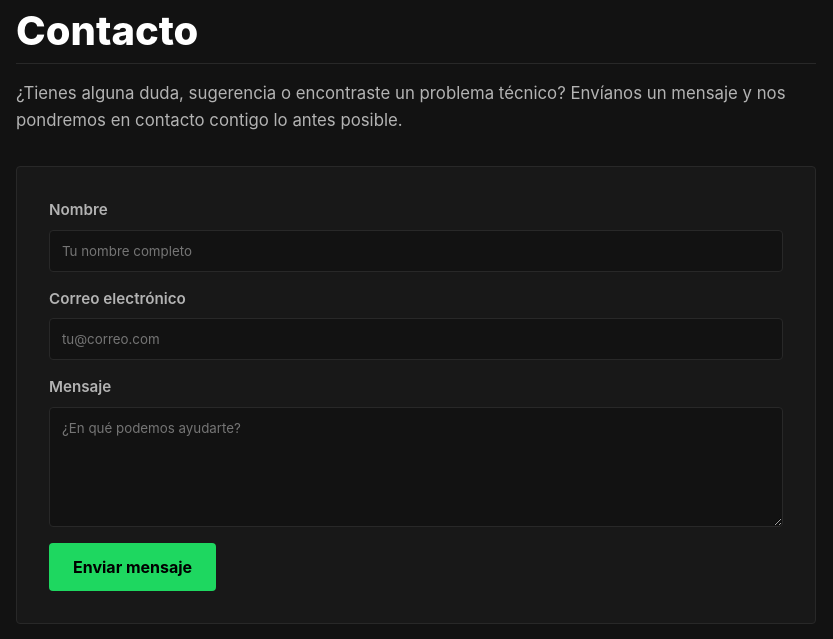
Test: ContactPage › con datos válidos envía y recién ahí muestra el éxito
Type "Ana Pérez" into the field labelled "Nombre" at coordinates (416, 250), box left=49, top=230, right=783, bottom=272
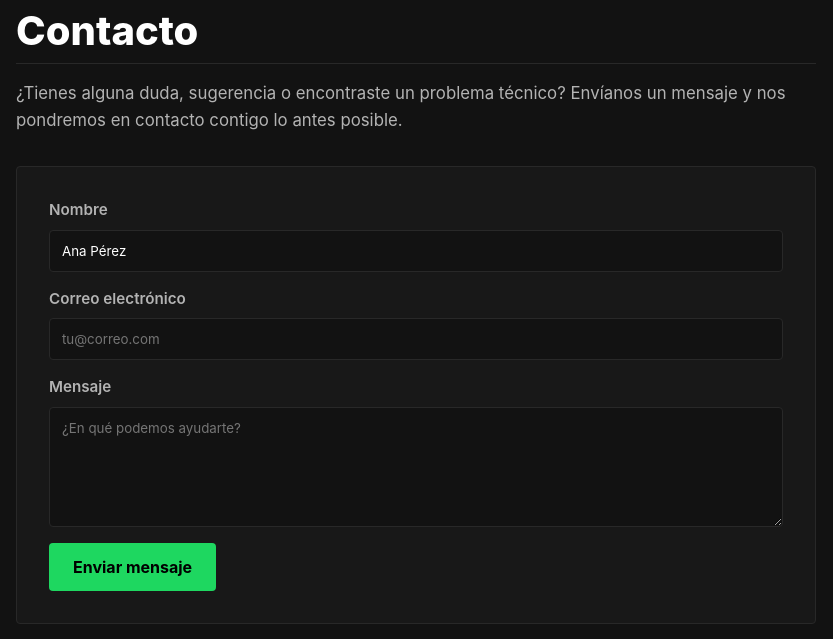
Type "ana@correo.com" into the field labelled "Correo electrónico" at coordinates (416, 339), box left=49, top=318, right=783, bottom=360
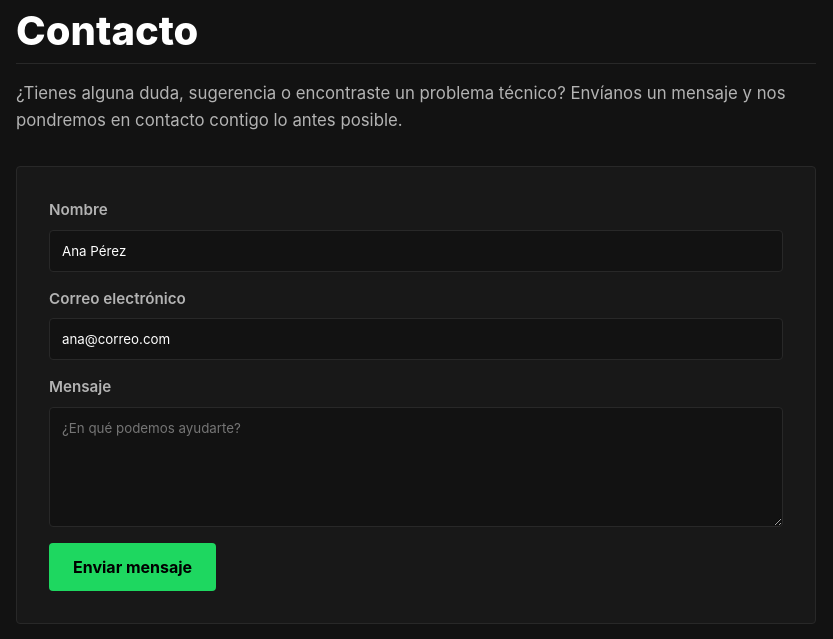
Type "Encontré un error en la ficha de un álbum." into the text box labelled "Mensaje" at coordinates (416, 467), box left=49, top=407, right=783, bottom=527
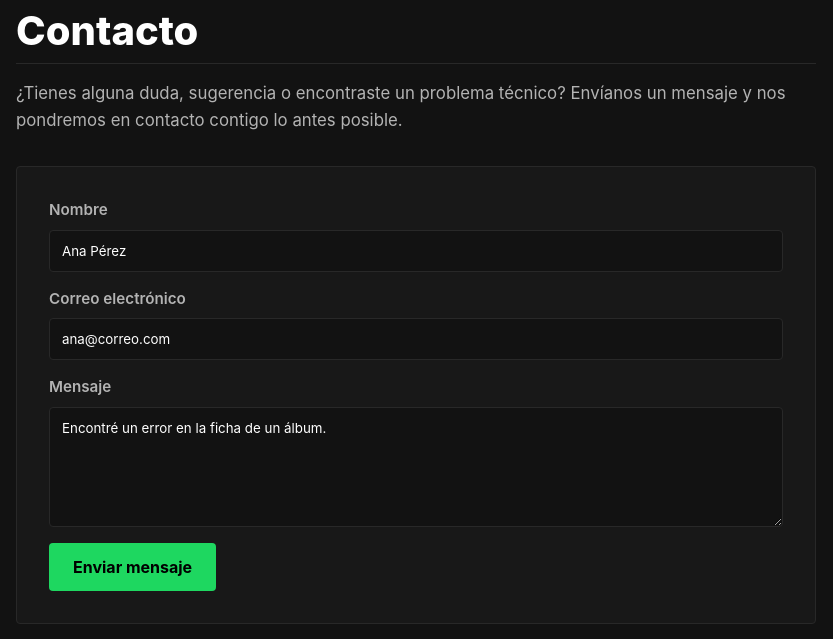
Click the button "Enviar mensaje" at coordinates (133, 567), box left=49, top=543, right=216, bottom=591
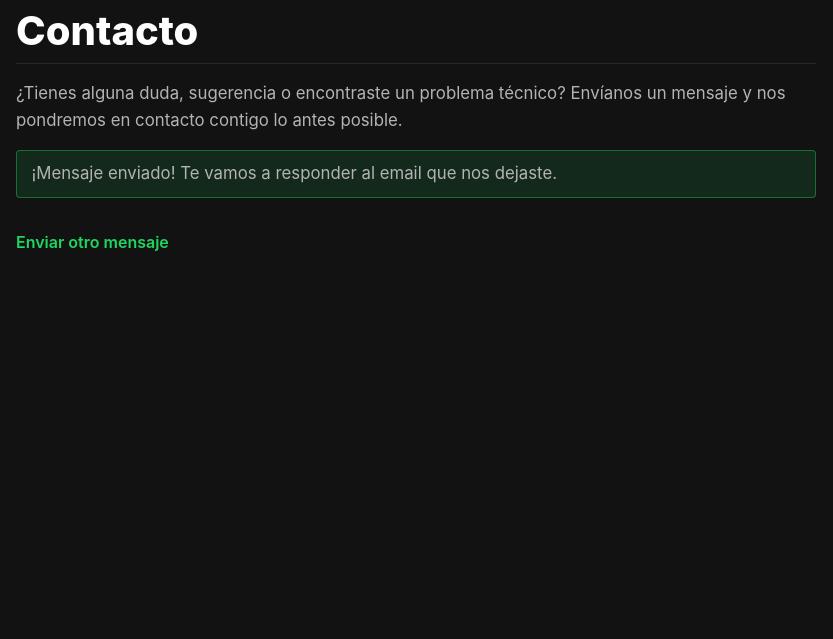
Now the text "¡Mensaje enviado! Te vamos a responder al email que nos dejaste." is shown, box left=16, top=150, right=816, bottom=198
